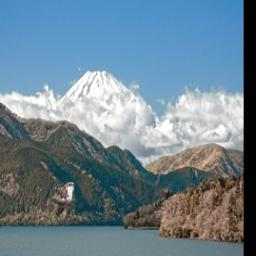Cuckoo: (46, 183, 74, 226)
